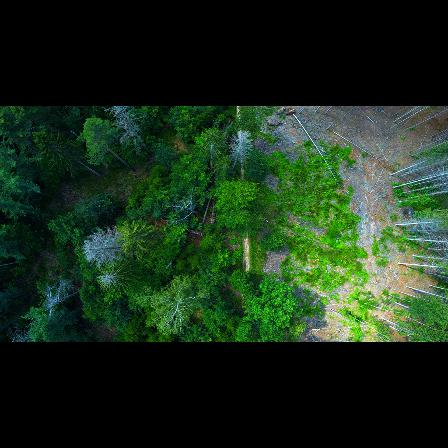Dead: (98, 106, 150, 154), (79, 228, 131, 266), (39, 279, 83, 316), (228, 126, 257, 169)
Sick: (93, 267, 132, 292)
